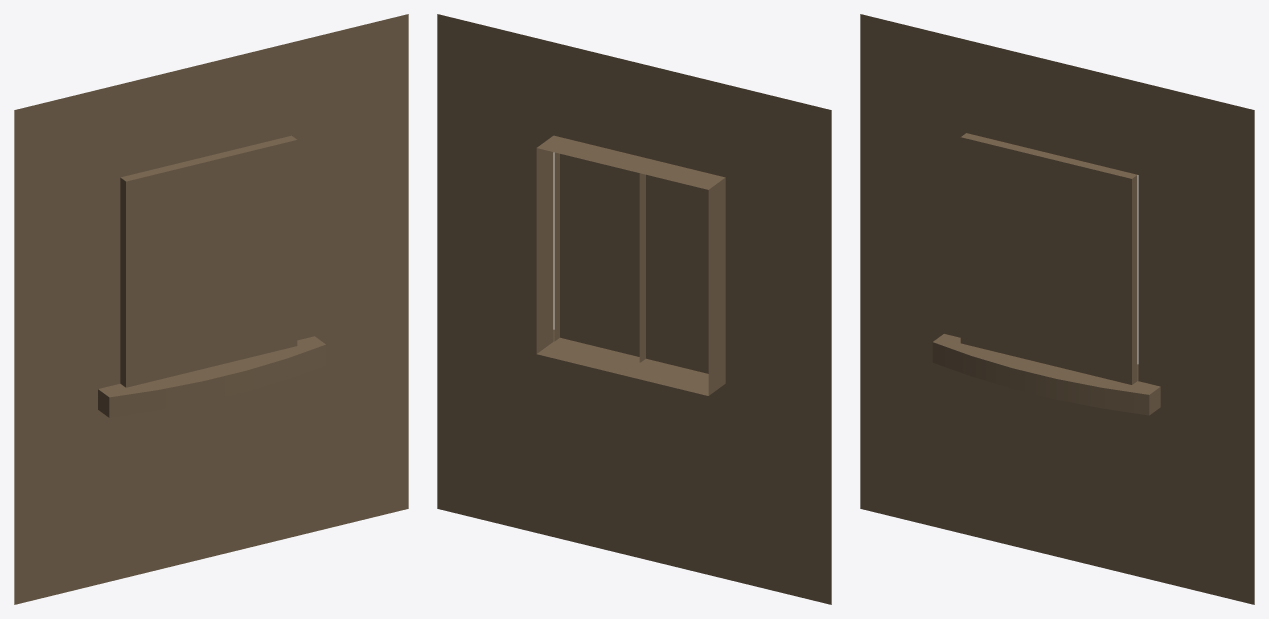
File: 2x2,4_closed_window_wall.FBX
3 renders of one model, left to right at view 1: azimuth 30°, elevation 25°; view 2: azimuth 150°, elevation 25°; view 3: azimuth 330°, elevation 25°, orthographic.
Parts seen in each view (by area): view 1: wall, blinds, window_stool; view 2: wall, blinds, window_stool; view 3: wall, blinds, window_stool.
Boxes of the visible parts, x1=… form: wall: x1=14, y1=14, x2=408, y2=604; blinds: x1=120, y1=135, x2=297, y2=387; window_stool: x1=98, y1=336, x2=325, y2=417; wall: x1=437, y1=14, x2=831, y2=604; blinds: x1=554, y1=152, x2=708, y2=373; window_stool: x1=553, y1=330, x2=708, y2=379; wall: x1=860, y1=14, x2=1254, y2=604; blinds: x1=960, y1=133, x2=1137, y2=384; window_stool: x1=932, y1=334, x2=1160, y2=415.
Size of the model in its own units: 200 by 240 by 31.
